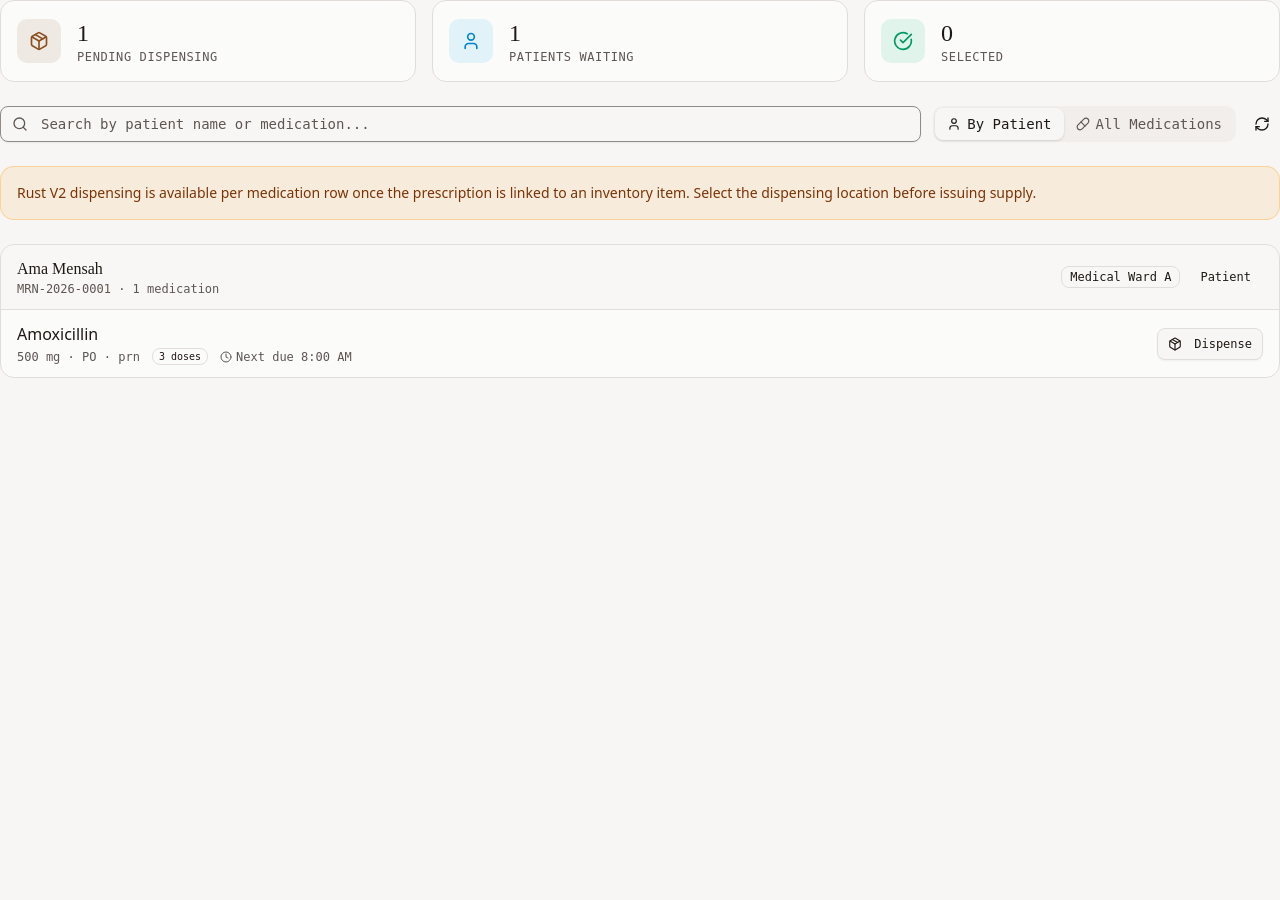
Test: PharmacyQueue Rust V2 dispensing controls › shows the explicit PRN stock basis and prevents another issue after an uncertain save
Click the button "Dispense" at (1210, 344), box [1157, 328, 1263, 360]
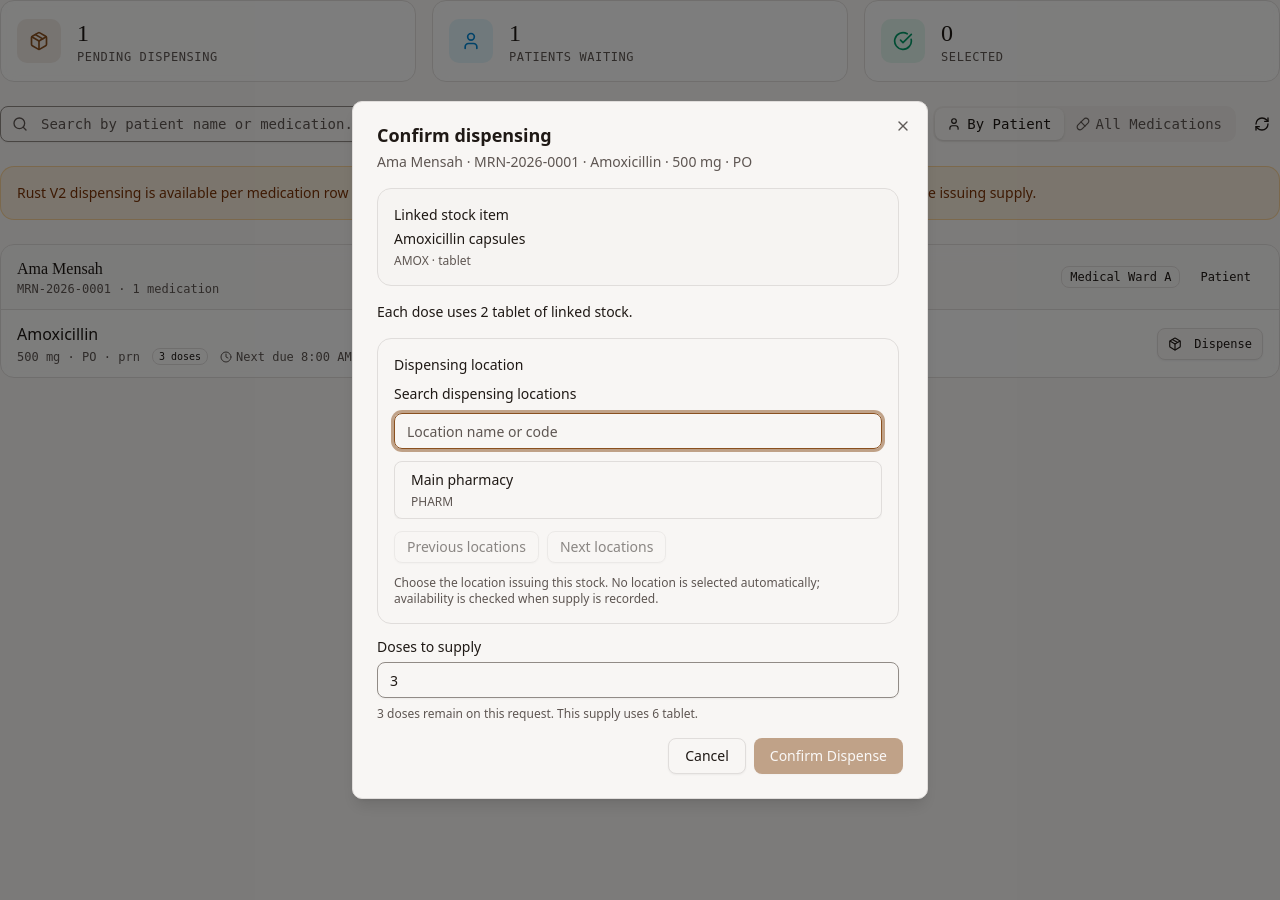
Now the text "Each dose uses 2 tablet of linked stock." is shown, box [377, 302, 633, 321]
Now the number field labelled "Doses to supply" is shown, box [377, 662, 899, 698]
Now the button "Confirm Dispense" is disabled, box [754, 738, 903, 774]
Click the button "Main pharmacy PHARM" at (462, 480), box [394, 461, 882, 519]
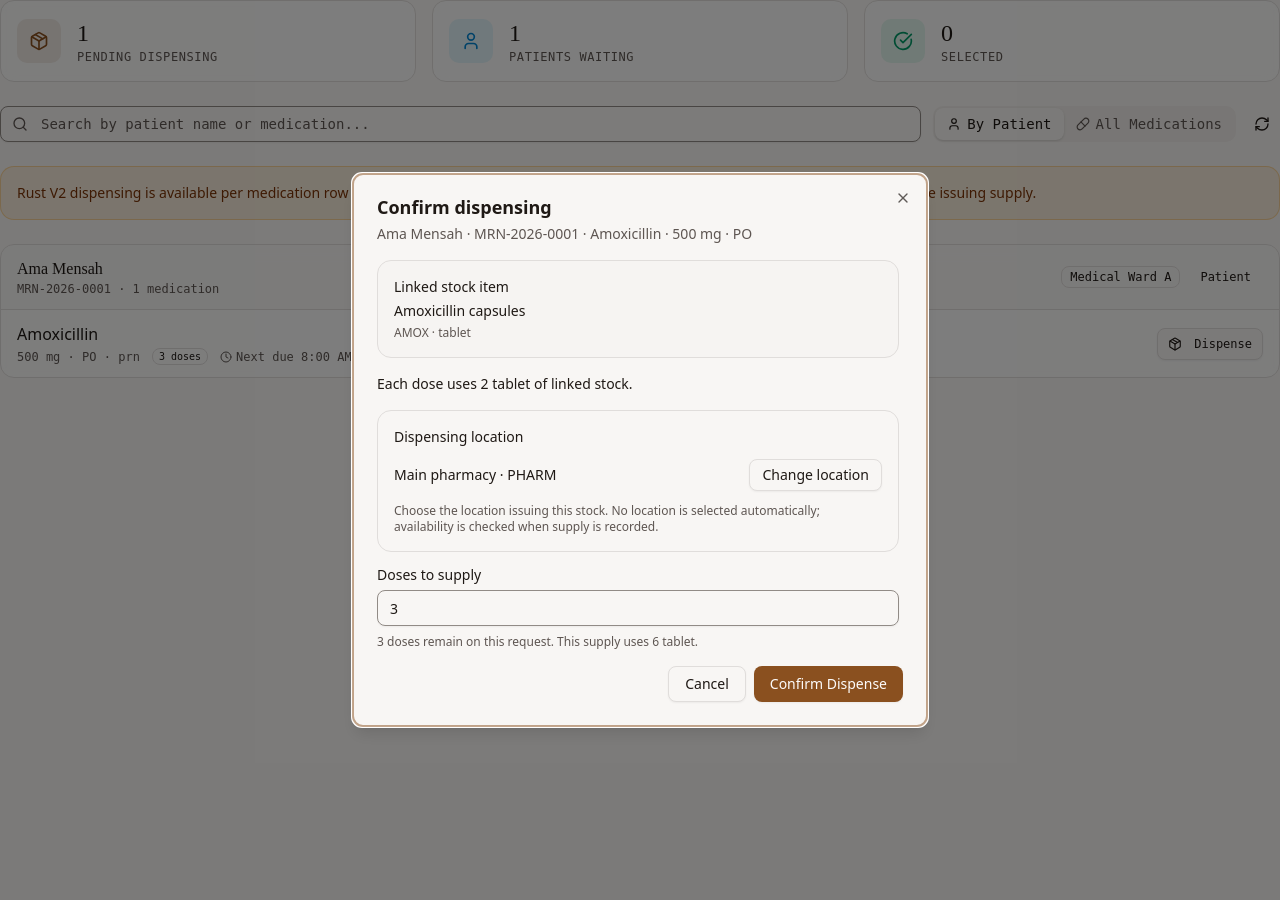
Double-click the button "Confirm Dispense" at (828, 684), box [754, 666, 903, 702]
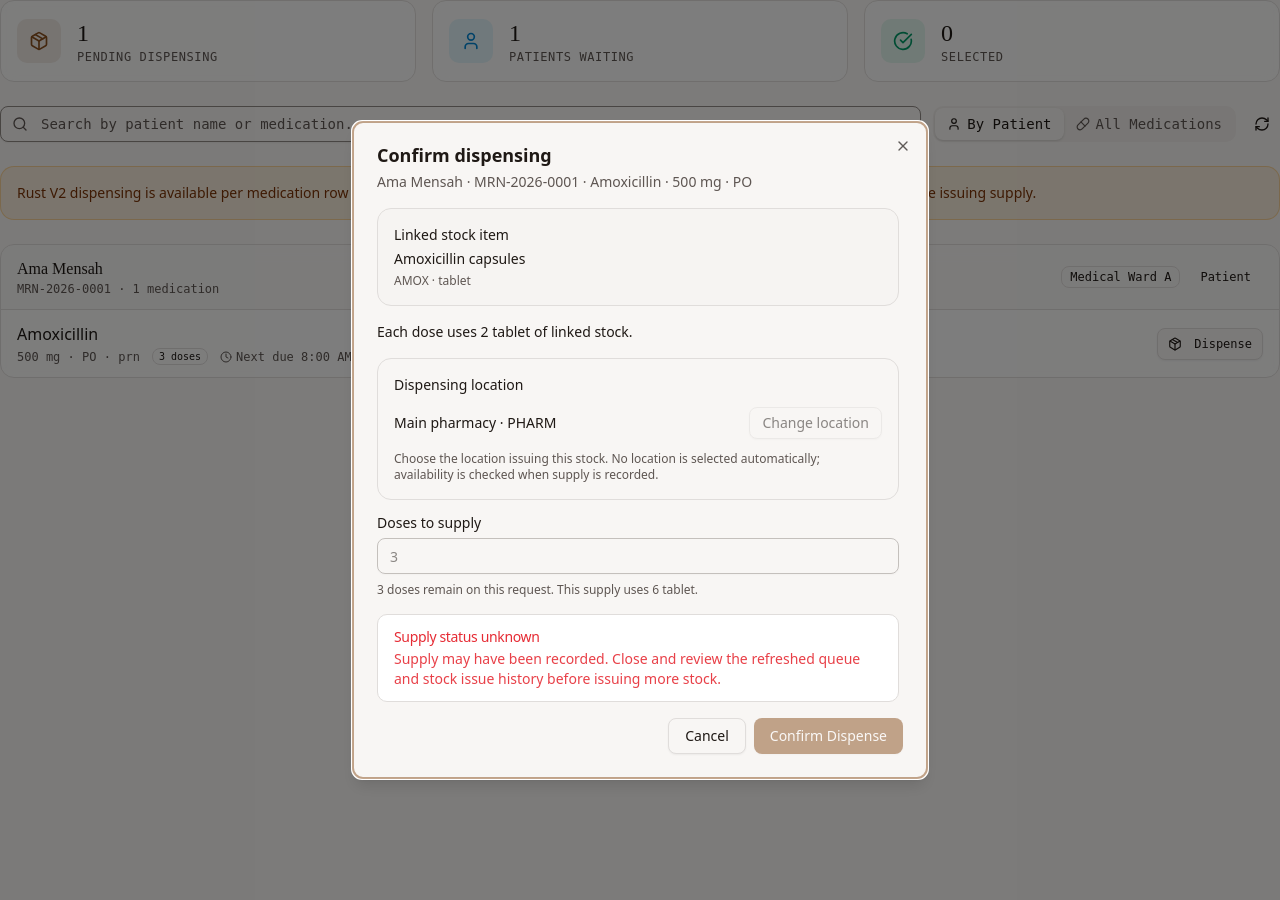
Now the message shows "may have been recorded", box [394, 649, 860, 688]
Now the button "Confirm Dispense" is disabled, box [754, 718, 903, 754]
Click the button "Cancel" at (707, 736), box [668, 718, 746, 754]
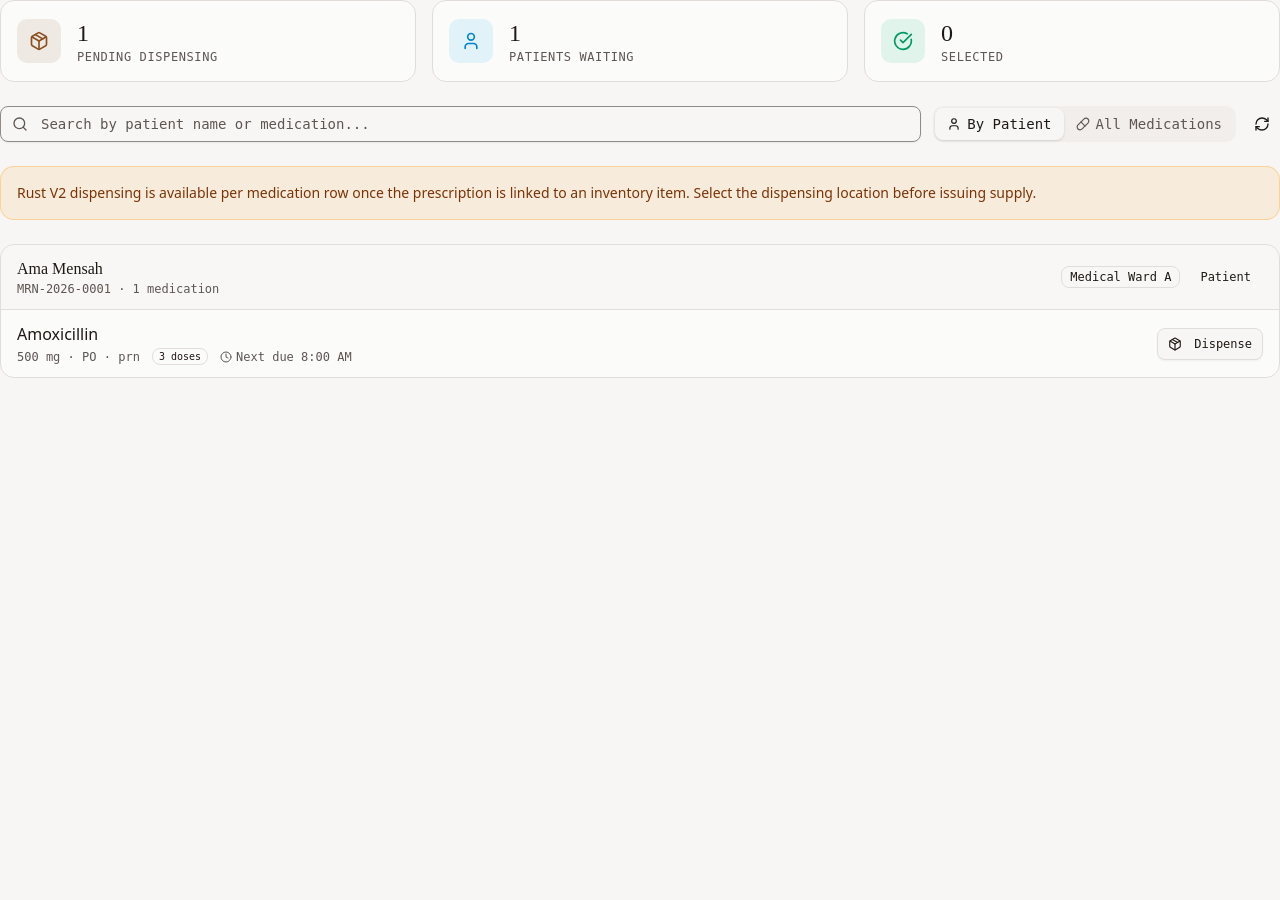
Click the button "Dispense" at (1210, 344), box [1157, 328, 1263, 360]
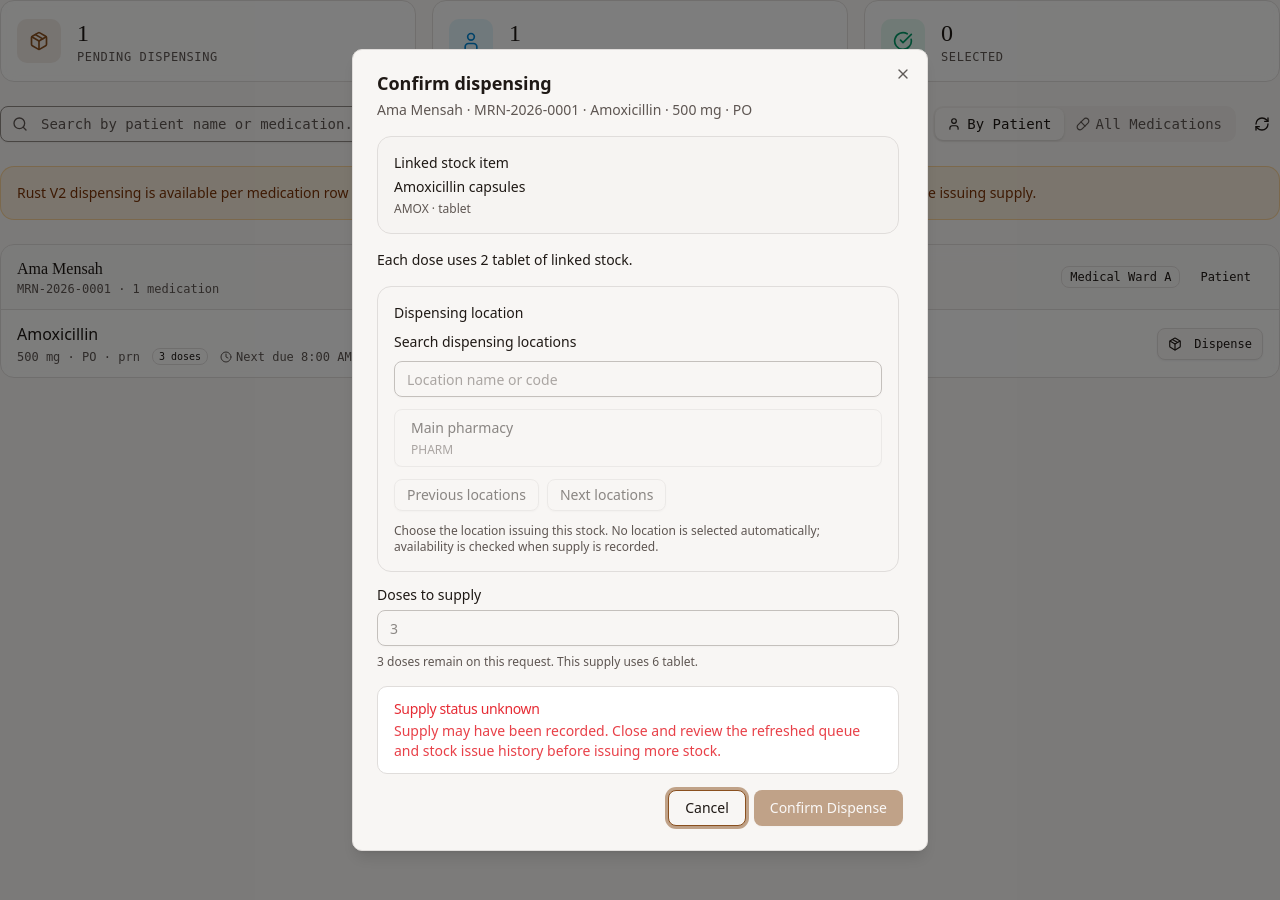
Now the button "Confirm Dispense" is disabled, box [754, 790, 903, 826]
